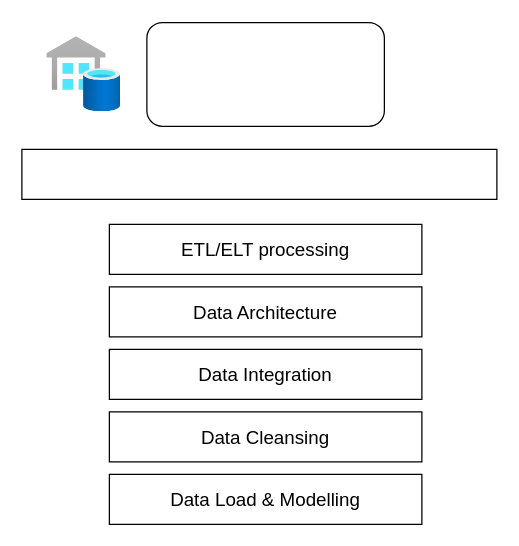
Image size: 519x546. Some labels were removed from this diagram. The shapes that lost their labels are listed below. From the top down, each one's centre as x and y in pixels, then its label:
At point 265,73: "DATA WAREHOUSING".
At point 259,173: "Organize, Structure,Prepare".
